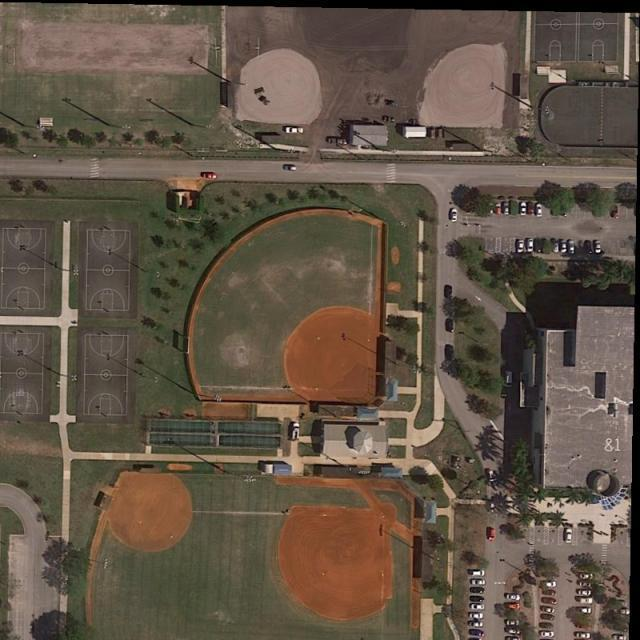vehicle: (326, 137, 348, 146), (291, 423, 301, 441), (541, 597, 559, 606), (470, 628, 486, 638), (614, 624, 630, 634), (540, 613, 557, 622), (286, 126, 304, 134), (470, 602, 486, 611), (470, 595, 486, 604), (506, 370, 514, 388), (446, 346, 455, 362), (470, 570, 486, 578), (612, 599, 628, 607), (540, 630, 556, 638), (527, 203, 536, 217), (446, 319, 455, 333), (585, 241, 594, 255), (527, 239, 535, 254), (470, 612, 485, 620), (471, 578, 486, 586), (542, 589, 557, 597), (542, 581, 557, 589), (535, 239, 543, 254), (539, 622, 554, 630), (566, 528, 573, 545), (470, 587, 486, 594), (488, 528, 496, 542), (594, 240, 602, 254), (506, 594, 520, 602), (486, 470, 495, 482), (283, 165, 298, 172), (502, 203, 510, 216), (487, 203, 495, 216), (450, 210, 458, 223), (517, 241, 525, 254), (445, 286, 453, 299), (568, 241, 576, 254), (542, 606, 555, 614), (613, 609, 630, 615), (520, 203, 527, 217), (536, 204, 543, 218), (469, 621, 483, 628), (507, 603, 521, 610), (560, 241, 567, 254), (613, 633, 626, 640), (581, 574, 594, 581), (580, 581, 593, 588), (578, 590, 591, 597), (203, 173, 218, 179), (506, 628, 521, 634), (506, 620, 521, 626), (577, 633, 591, 639), (577, 608, 591, 614), (613, 205, 619, 219), (578, 598, 593, 603), (496, 203, 502, 215), (554, 242, 560, 254), (562, 206, 568, 218), (506, 637, 521, 640), (468, 638, 482, 640)
